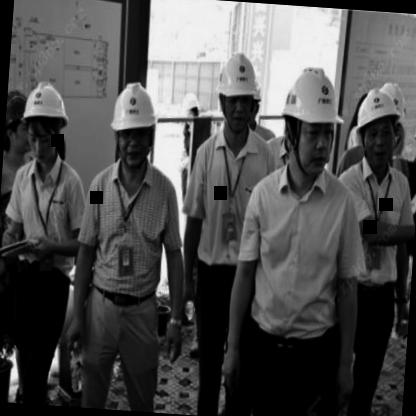helmet: (276, 67, 342, 175), (103, 81, 162, 182), (209, 42, 266, 142), (14, 76, 67, 167), (352, 79, 400, 173), (3, 83, 31, 161), (410, 112, 416, 169)
